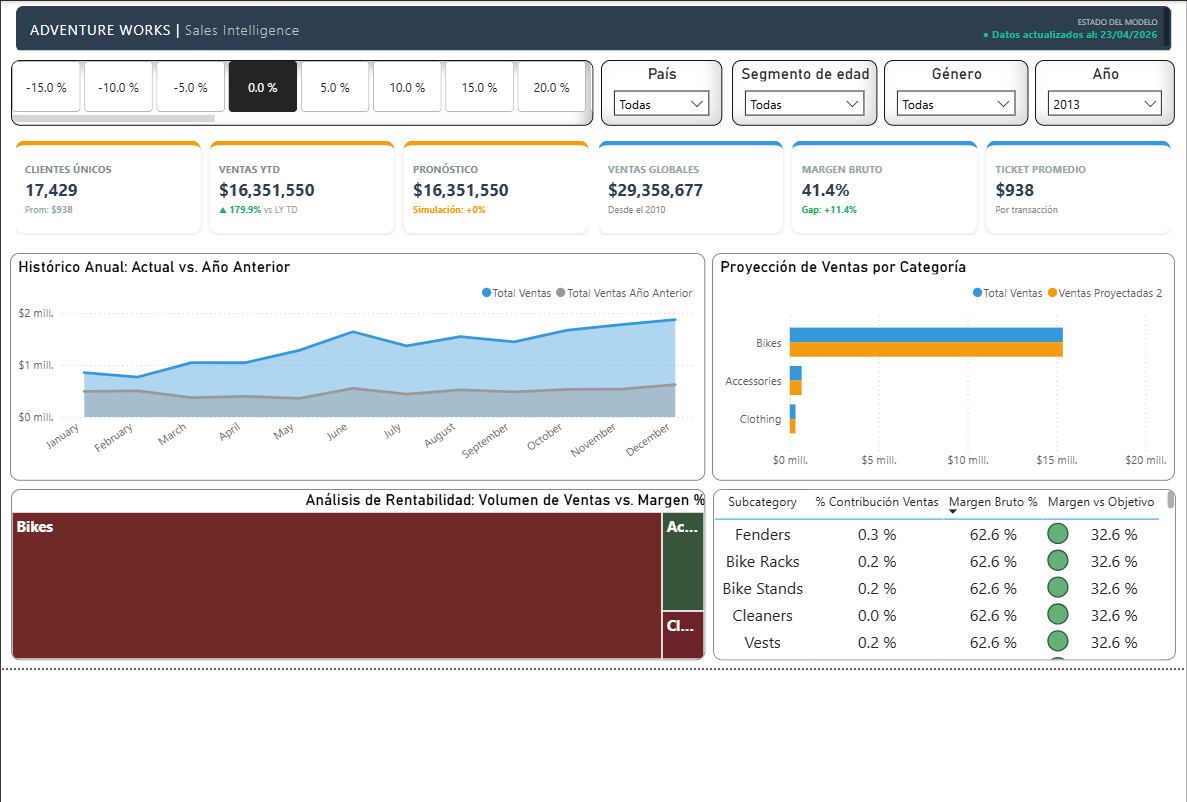

Layout of this report page (visuals, bound fields, positions):
{"tool":"powerbi","page":{"name":"Ventas","canvas":[1280,720],"ordinal":0},"visuals":[{"type":"htmlContent443BE3AD55E043BF878BED274D3A6865","fields":{"content":["Medidas.HTML_Panel_Eficiencia"]},"box":[10.6,145.9,629.4,111.8],"z":0},{"type":"htmlContent443BE3AD55E043BF878BED274D3A6865","fields":{"content":["Medidas.HTML_Header"]},"box":[10.6,0,1257.6,57.6],"z":1000},{"type":"htmlContent443BE3AD55E043BF878BED274D3A6865","fields":{"content":["Medidas.HTML_Panel_Principal"]},"box":[640,145.9,628.2,111.8],"z":2000},{"type":"advancedSlicerVisual","fields":{"Values":["Escenario Crecimiento.Escenario Crecimiento"]},"box":[10.6,63.5,629.4,70.6],"z":3000},{"type":"areaChart","title":"Histórico Anual: Actual vs. Año Anterior","fields":{"Y":["Medidas.Total Ventas","Medidas.Total Ventas Año Anterior"],"Category":["Calendar.Month_Name"]},"box":[9.7,272.2,750.7,246.3],"z":4000},{"type":"clusteredBarChart","title":"Proyección de Ventas por Categoría","fields":{"Category":["Products.Category"],"Y":["Medidas.Total Ventas","Medidas.Ventas Proyectadas 2"]},"box":[768,272.2,500.1,246.3],"z":5000},{"type":"treemap","title":"Análisis de Rentabilidad: Volumen de Ventas vs. Margen %","fields":{"Group":["Products.Category","Products.Subcategory"],"Values":["Medidas.Total Ventas"]},"box":[10.8,527.1,749.6,184.7],"z":6000},{"type":"slicer","title":"Año","fields":{"Values":["Calendar.Year"]},"box":[1117.2,63.5,151.4,70.7],"z":7000},{"type":"slicer","title":"Segmento de edad","fields":{"Values":["Customers.Segmento Edad"]},"box":[789.8,63.5,156.9,70.7],"z":8000},{"type":"slicer","title":"País","fields":{"Values":["Customers.Country"]},"box":[648.4,63.5,130.6,70.7],"z":9000},{"type":"slicer","title":"Género","fields":{"Values":["Customers.Gender"]},"box":[954,63.5,156,70.7],"z":9001},{"type":"tableEx","fields":{"Values":["Products.Subcategory","Medidas.% Contribución Ventas","Medidas.Margen Bruto %","Medidas.Margen vs Objetivo"]},"box":[769.1,527.1,500.1,184.7],"z":9002}]}

Visuals, with their boxes on the page's 1280x720 design canvas (x1, y1, x2, y2). These are canvas units, not pixel positions in the 1187x802 screenshot, which may show the page scaled, cropped or inside an application window:
htmlContent443BE3AD55E043BF878BED274D3A6865 - Medidas.HTML_Panel_Eficiencia: <box>11,146,640,258</box>
htmlContent443BE3AD55E043BF878BED274D3A6865 - Medidas.HTML_Header: <box>11,0,1268,58</box>
htmlContent443BE3AD55E043BF878BED274D3A6865 - Medidas.HTML_Panel_Principal: <box>640,146,1268,258</box>
advancedSlicerVisual - Escenario Crecimiento.Escenario Crecimiento: <box>11,64,640,134</box>
"Histórico Anual: Actual vs. Año Anterior" areaChart: <box>10,272,760,518</box>
"Proyección de Ventas por Categoría" clusteredBarChart: <box>768,272,1268,518</box>
"Análisis de Rentabilidad: Volumen de Ventas vs. Margen %" treemap: <box>11,527,760,712</box>
"Año" slicer: <box>1117,64,1269,134</box>
"Segmento de edad" slicer: <box>790,64,947,134</box>
"País" slicer: <box>648,64,779,134</box>
"Género" slicer: <box>954,64,1110,134</box>
tableEx - Products.Subcategory x Medidas.% Contribución Ventas: <box>769,527,1269,712</box>
